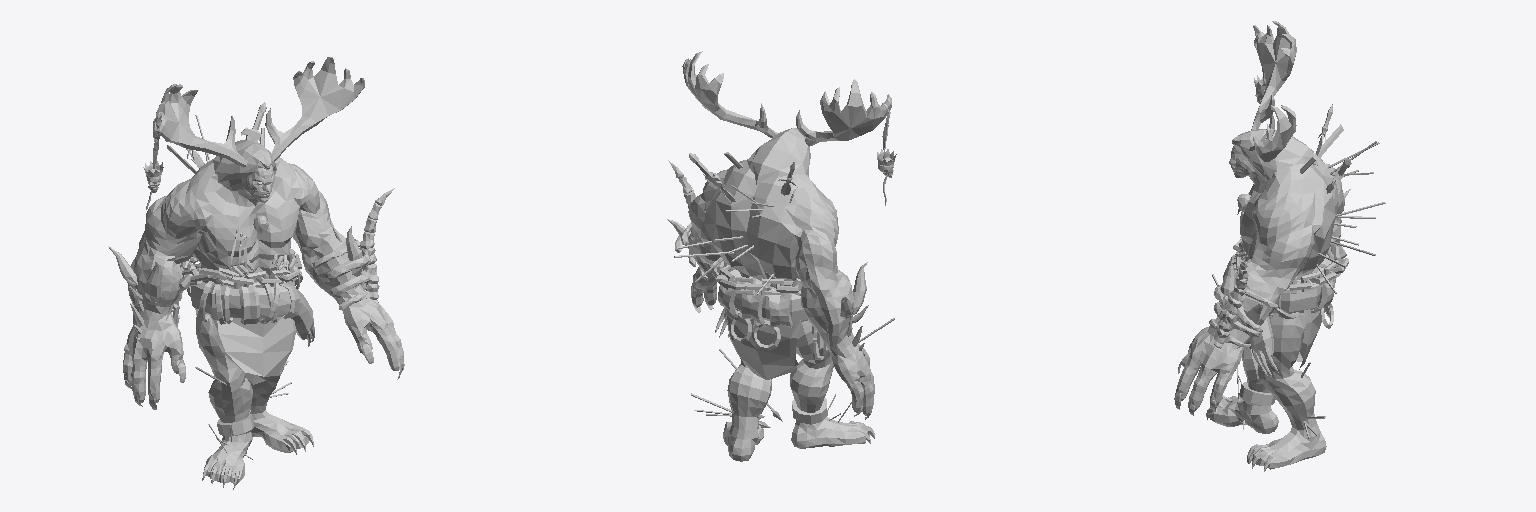
The model's file is walking_000020.obj.
3 renders of one model, left to right at view 1: azimuth 30°, elevation 25°; view 2: azimuth 150°, elevation 25°; view 3: azimuth 270°, elevation 25°, orthographic.
Parts seen in each view (by area): view 1: MAW; view 2: MAW; view 3: MAW.
Part boxes in pixels (x1,y1,x2,y2): MAW: (108,57,404,489); MAW: (667,51,896,461); MAW: (1174,21,1385,471).
Size of the model in its own units: 15.04 by 23.28 by 11.46.